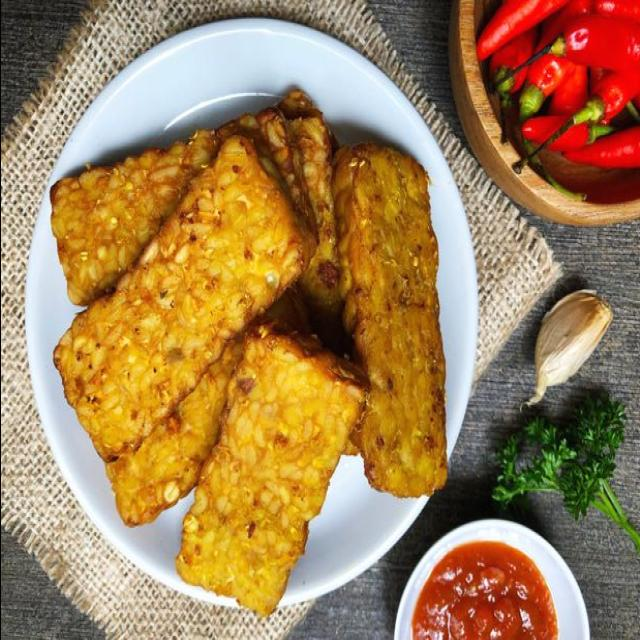tempe goreng: (52, 136, 298, 463), (174, 324, 366, 616), (331, 143, 445, 500)
